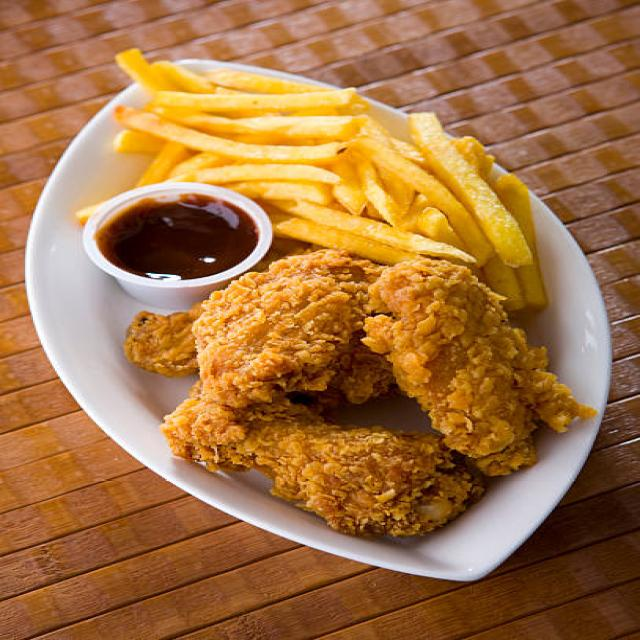carb: (118, 50, 548, 312), (78, 202, 105, 225)
meat: (125, 251, 597, 537)
